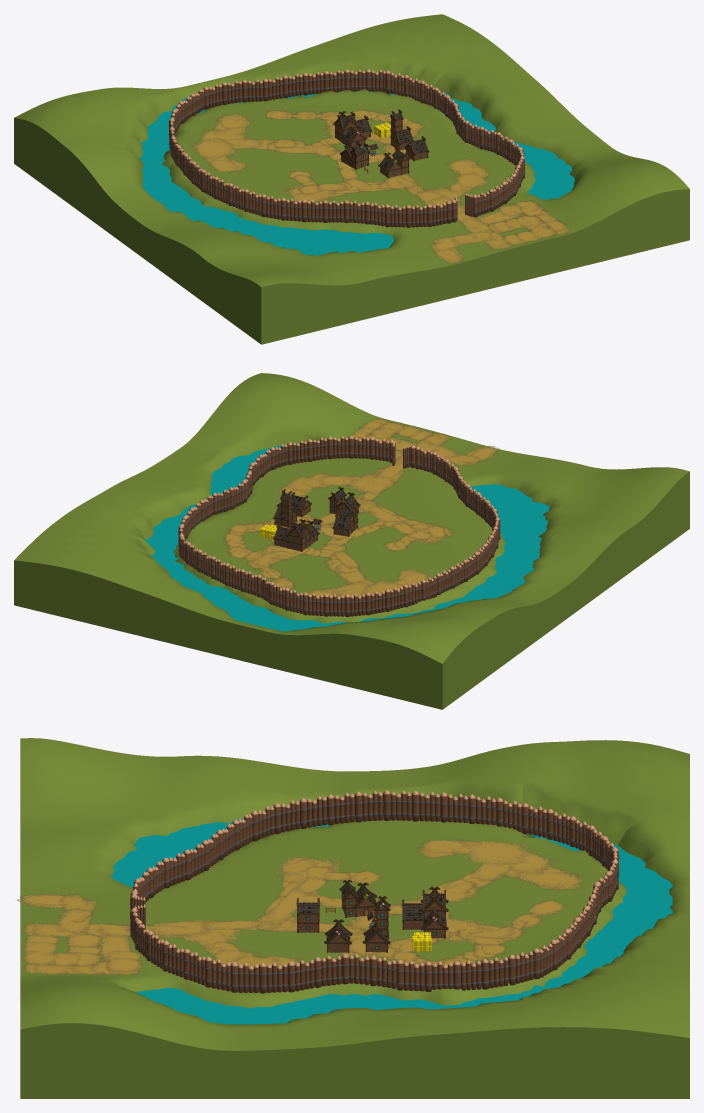
Rendered from aldea_simp_remove.glb.
3 renders of one model, top to bottom at view 1: azimuth 30°, elevation 25°; view 2: azimuth 150°, elevation 25°; view 3: azimuth 270°, elevation 25°, orthographic. The views are drawn at different scales.
Parts seen in each view (by area): view 1: 0_base, 0_suelo, a_muralla_primitive0, a_agua, a_muralla_primitive2, a_muralla_primitive1, a_casas.002_primitive2; view 2: 0_base, 0_suelo, a_muralla_primitive0, a_agua, a_muralla_primitive2, a_muralla_primitive1, a_casas.002_primitive2; view 3: 0_base, 0_suelo, a_muralla_primitive0, a_agua, a_muralla_primitive2, a_muralla_primitive1, a_casas.002_primitive2, a_casas.002_primitive1, a_casas.056_primitive2, a_casas.021_primitive2.
Boxes of the visible parts, bbox=[...] form: 0_base: bbox=[14, 14, 689, 344]; 0_suelo: bbox=[190, 109, 570, 264]; a_muralla_primitive0: bbox=[169, 71, 524, 227]; a_agua: bbox=[139, 91, 574, 255]; a_muralla_primitive2: bbox=[168, 76, 525, 223]; a_muralla_primitive1: bbox=[169, 69, 524, 209]; a_casas.002_primitive2: bbox=[333, 110, 371, 147]; 0_base: bbox=[14, 373, 689, 709]; 0_suelo: bbox=[223, 418, 499, 597]; a_muralla_primitive0: bbox=[178, 438, 500, 616]; a_agua: bbox=[145, 443, 549, 631]; a_muralla_primitive2: bbox=[178, 443, 500, 612]; a_muralla_primitive1: bbox=[179, 436, 499, 599]; a_casas.002_primitive2: bbox=[273, 518, 319, 551]; 0_base: bbox=[20, 738, 689, 1098]; 0_suelo: bbox=[16, 839, 583, 975]; a_muralla_primitive0: bbox=[130, 793, 618, 993]; a_agua: bbox=[111, 818, 672, 1024]; a_muralla_primitive2: bbox=[130, 800, 619, 987]; a_muralla_primitive1: bbox=[130, 790, 618, 969]; a_casas.002_primitive2: bbox=[402, 886, 448, 938]; a_casas.002_primitive1: bbox=[404, 891, 446, 926]; a_casas.056_primitive2: bbox=[339, 879, 376, 917]; a_casas.021_primitive2: bbox=[362, 896, 390, 952].
Bounding box in the file's own units: 256 × 40.23 × 258.
Materials: 17 (1 with a texture image).
